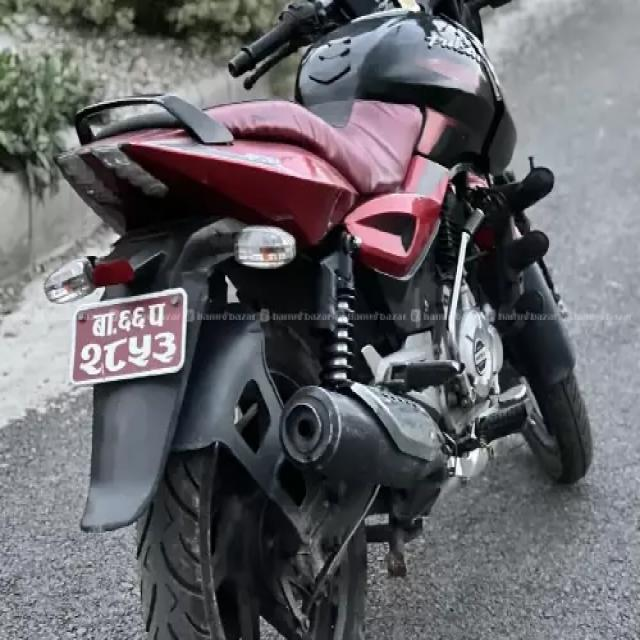License-plate: (70, 298, 195, 386)
